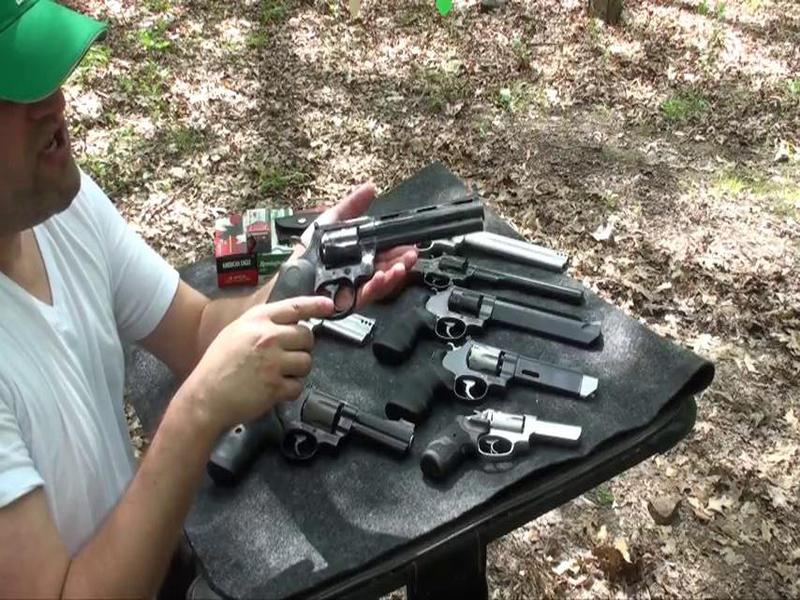Revolver: (281, 204, 473, 336)
